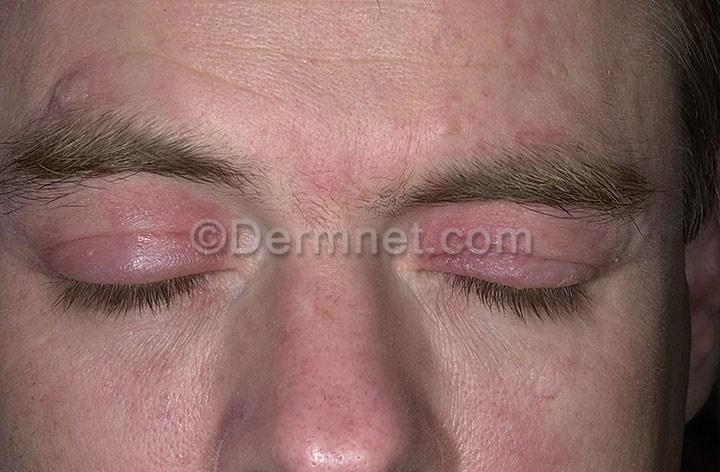edema 2: (46, 241, 230, 281)
eritema 1: (39, 191, 258, 284), (411, 211, 628, 290)
